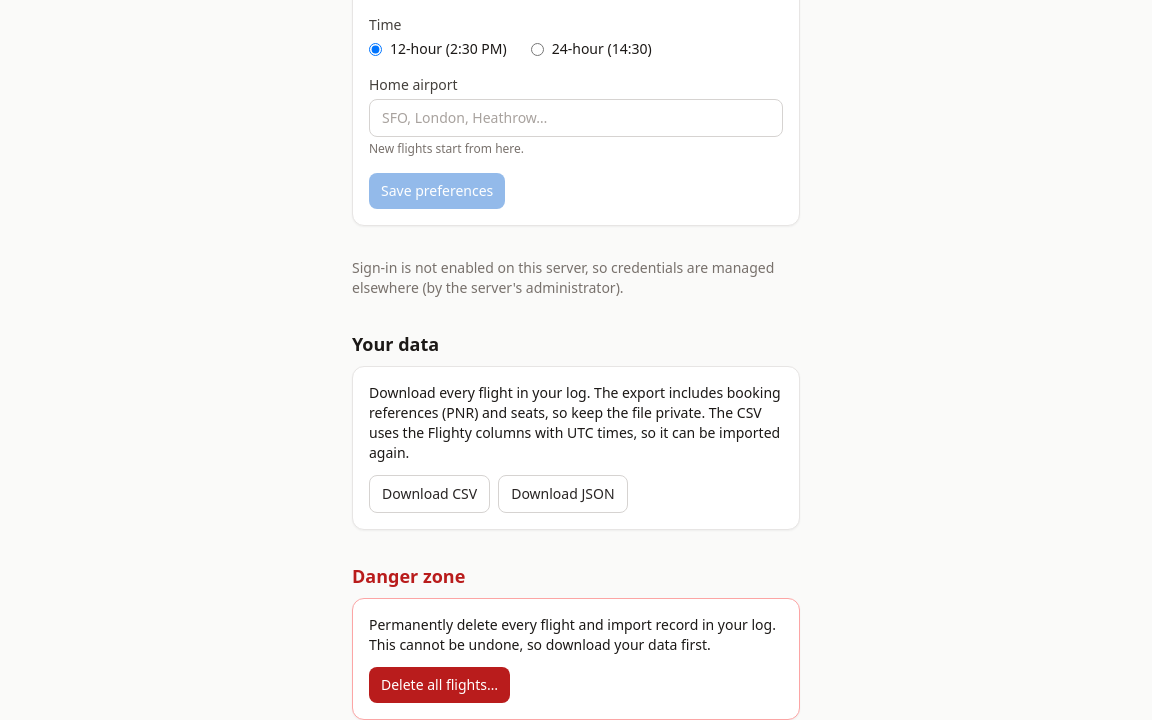
Danger zone › needs the typed phrase before deleting, then refreshes flight data
This screenshot has width=1152, height=720.
(page scrolled)
Step 1. Click the button "Delete all flights…" → [440, 685], box top-left (369, 667), bottom-right (510, 703)
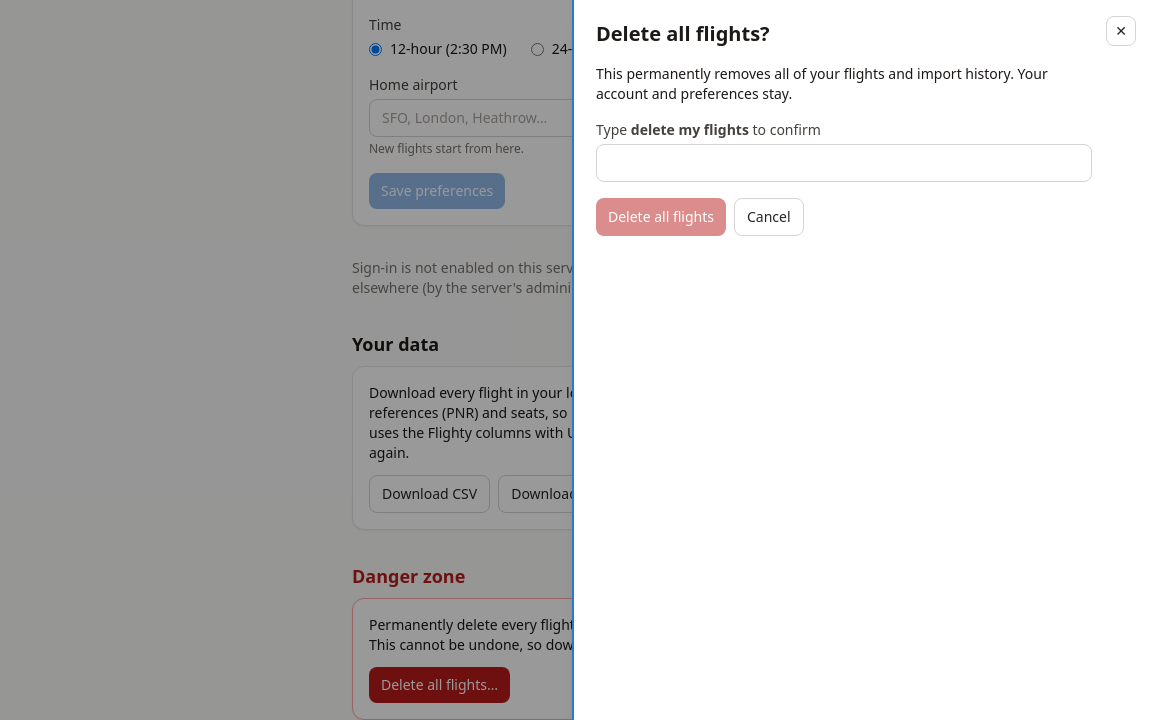
Check: the button "Delete all flights" is disabled, box top-left (596, 198), bottom-right (726, 236)
Step 2. Type "delete my flight" into the field labelled "Type delete my flights to confirm" → [844, 163], box top-left (596, 144), bottom-right (1092, 182)
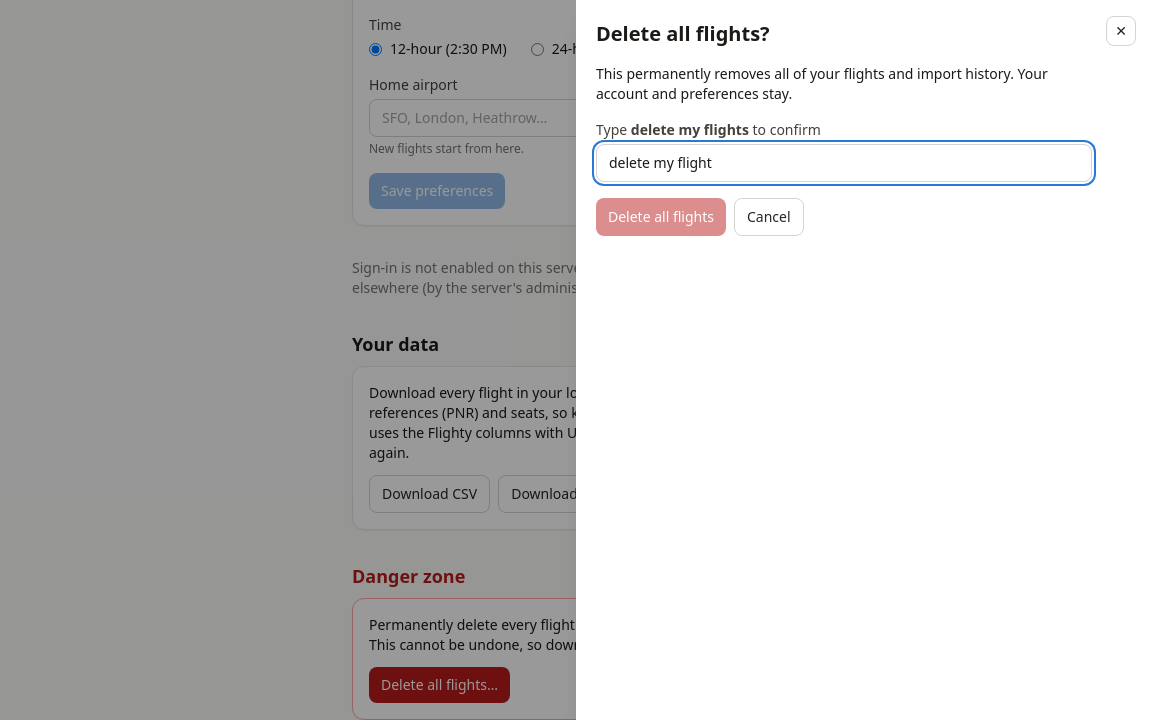
Check: the button "Delete all flights" is disabled, box top-left (596, 198), bottom-right (726, 236)
Step 3. Type "s" into the field labelled "Type delete my flights to confirm" → [844, 163], box top-left (596, 144), bottom-right (1092, 182)
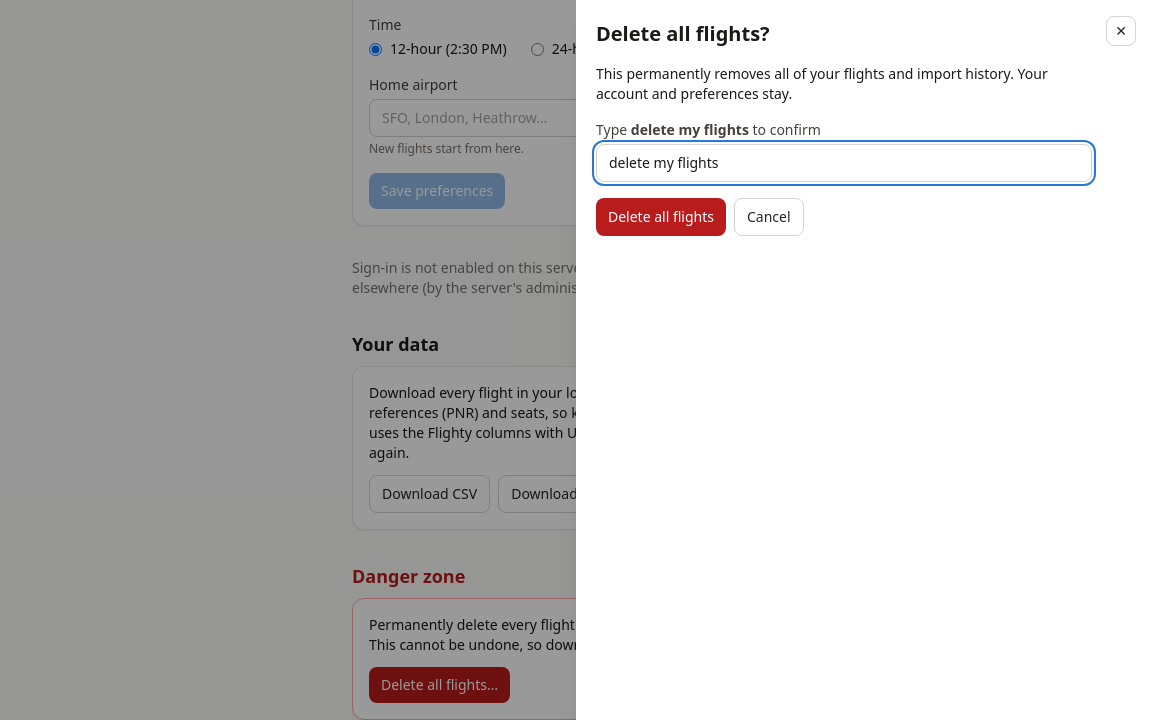
Check: the button "Delete all flights" is enabled
Step 4. Click the button "Delete all flights" → [661, 217], box top-left (596, 198), bottom-right (726, 236)
(page scrolled)
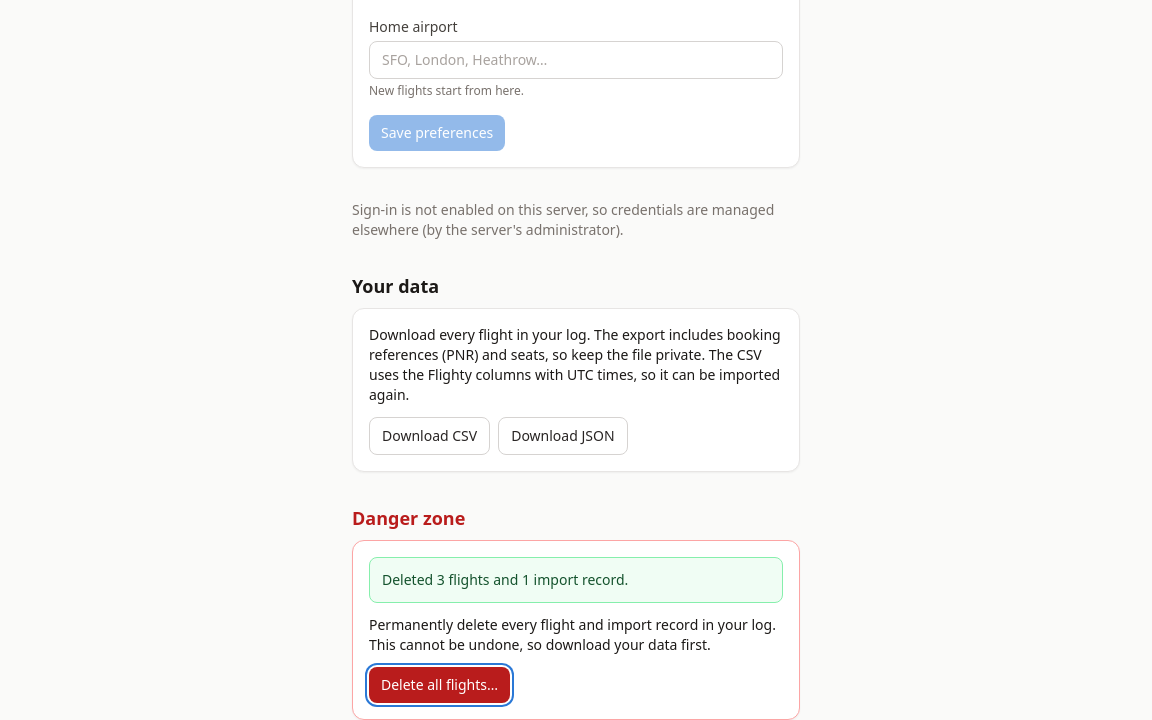
Check: the text "Deleted 3 flights and 1 import record." is shown, box top-left (369, 557), bottom-right (783, 603)
Check: the dialog is gone
